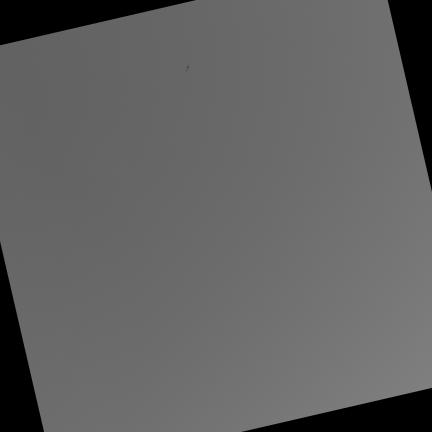Shahed: (185, 63, 190, 71)
